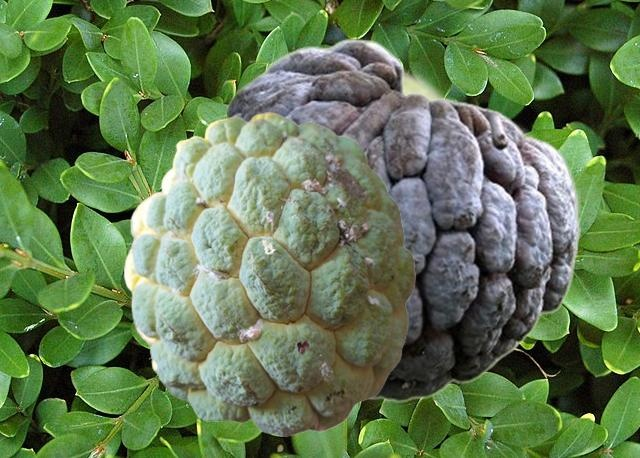atis: (222, 37, 579, 401), (123, 112, 414, 435), (401, 61, 579, 243)
